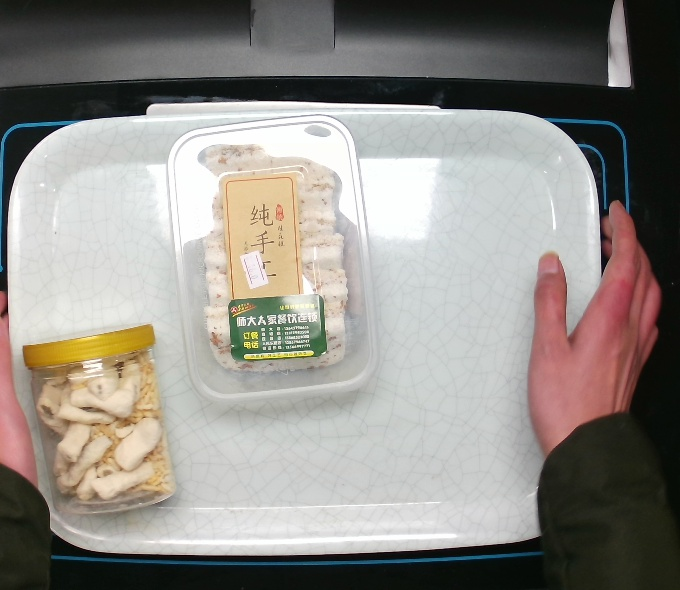wcq-GuiHuaGao: (162, 111, 386, 407)
wcq-MaiYaTang: (18, 319, 183, 519)
